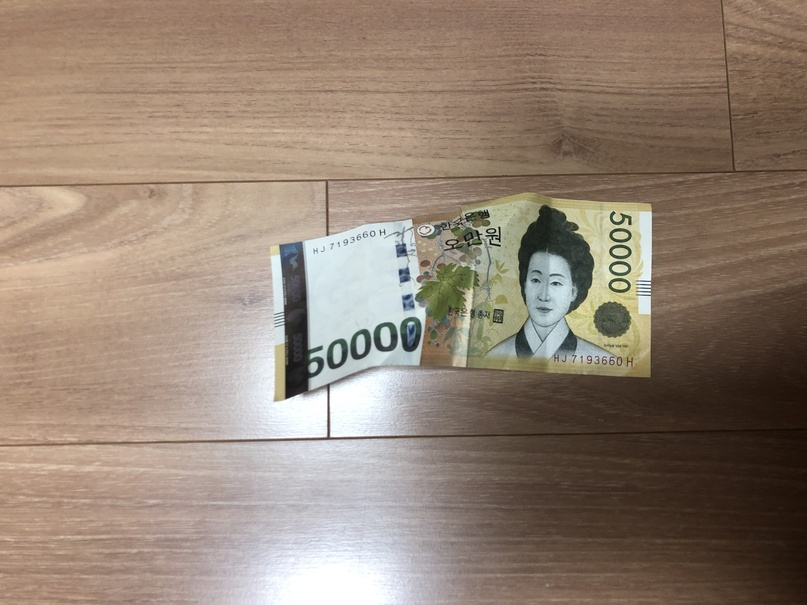50000won: (269, 192, 652, 404)
